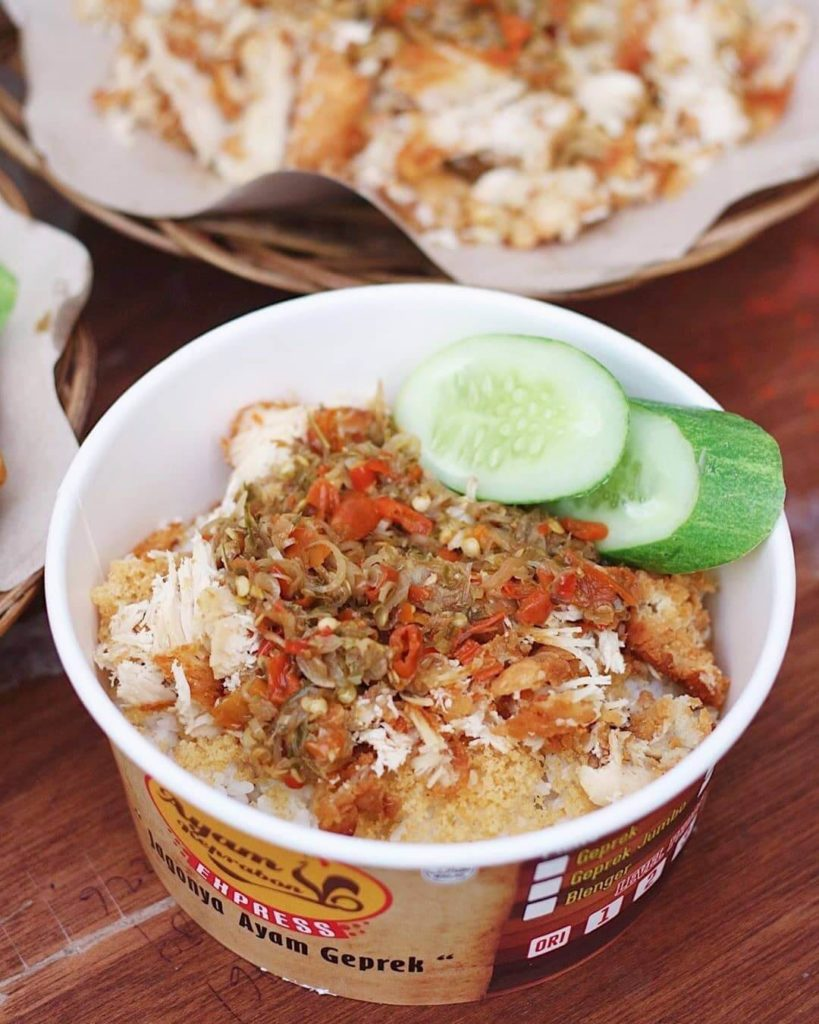ayam_geprek: (145, 425, 750, 853)
